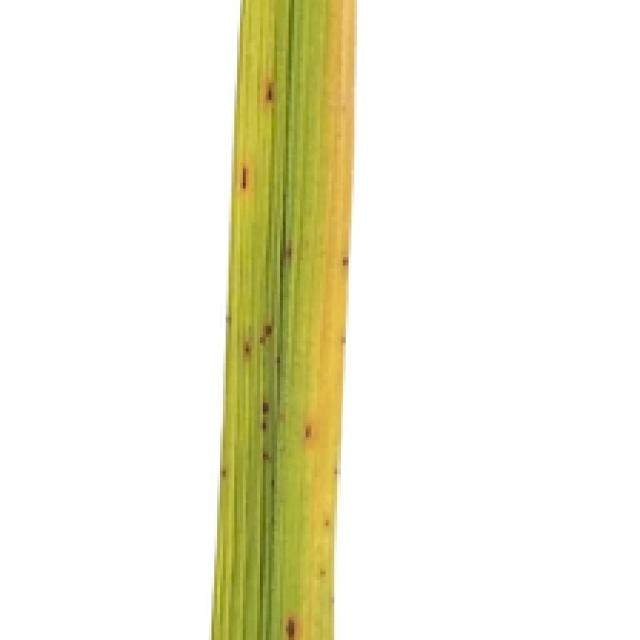Rice___Brown_Spot: (211, 3, 357, 637)
